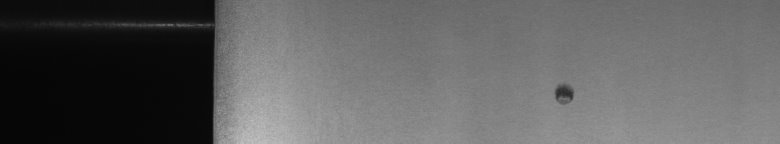fi: (548, 76, 580, 112)
